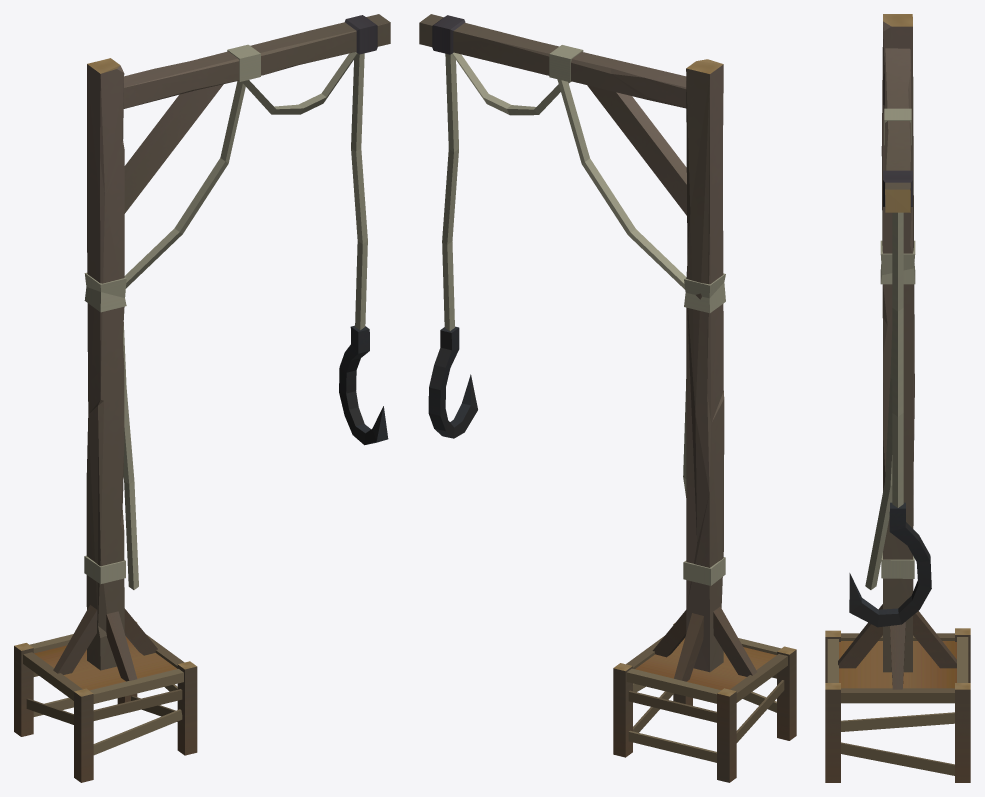
File: Crane_1.fbx
3 renders of one model, left to right at view 1: azimuth 30°, elevation 25°; view 2: azimuth 150°, elevation 25°; view 3: azimuth 270°, elevation 25°, orthographic. The views are drawn at different scales.
Parts seen in each view (by area): view 1: polySurface9798; view 2: polySurface9798; view 3: polySurface9798.
Part boxes in pixels (x1,y1,x2,y2): polySurface9798: [14, 14, 390, 782]; polySurface9798: [419, 14, 796, 782]; polySurface9798: [825, 14, 970, 782].
Size of the model in its own units: 325 by 626 by 112.
